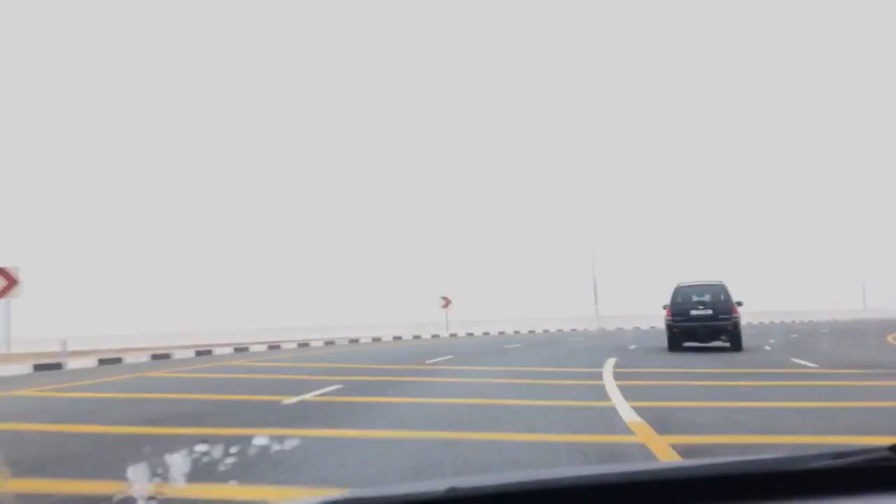car: (660, 278, 746, 354)
